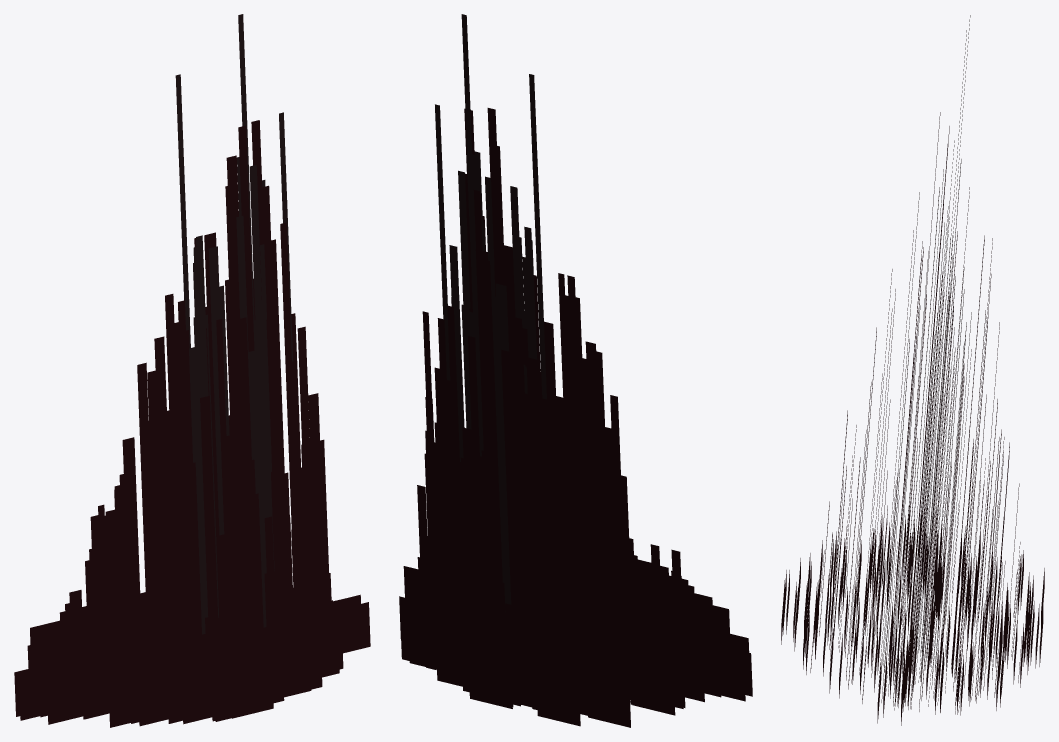
The model's file is soft_ice.glb.
3 renders of one model, left to right at view 1: azimuth 30°, elevation 25°; view 2: azimuth 150°, elevation 25°; view 3: azimuth 270°, elevation 25°, orthographic. The views are drawn at different scales.
Visible parts, largest first — view 1: ice_body, ice_haze, ice_core; view 2: ice_body, ice_haze, ice_core; view 3: ice_body, ice_haze, ice_core.
Part boxes in pixels (x1,y1,x2,y2): ice_body: (54, 120, 338, 719); ice_haze: (14, 588, 370, 727); ice_core: (175, 14, 293, 634); ice_body: (406, 108, 720, 704); ice_haze: (399, 557, 752, 727); ice_core: (435, 14, 546, 612); ice_body: (796, 112, 1034, 714); ice_haze: (781, 505, 1044, 725); ice_core: (883, 15, 971, 699).
Size of the model in its own units: 1.22 by 2.17 by 0.7663.
